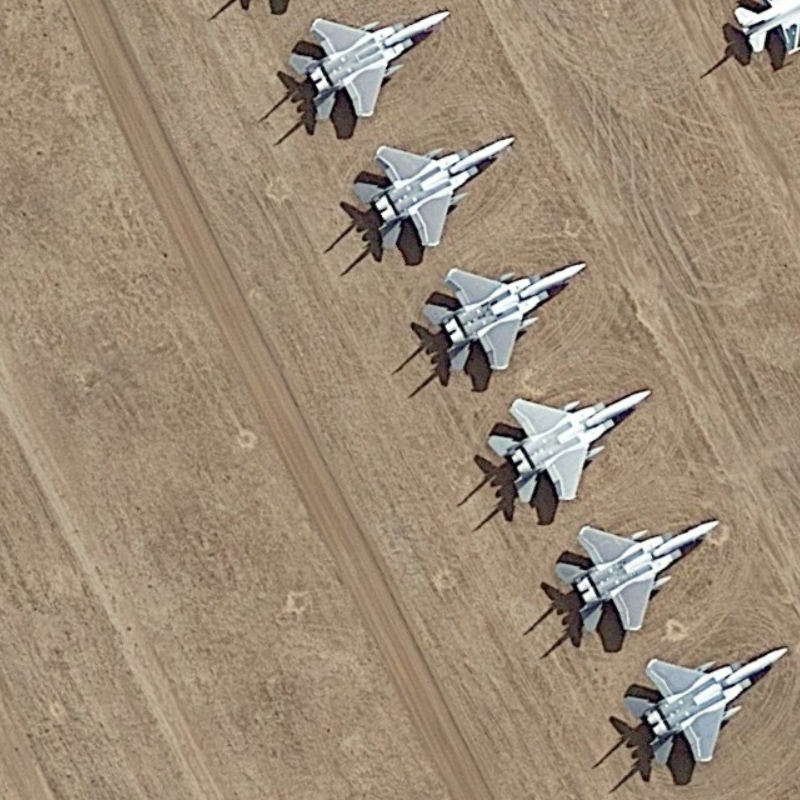A13: (620, 640, 795, 781), (550, 512, 726, 648), (419, 254, 593, 389), (475, 380, 653, 510), (349, 131, 533, 250), (276, 6, 452, 121)
